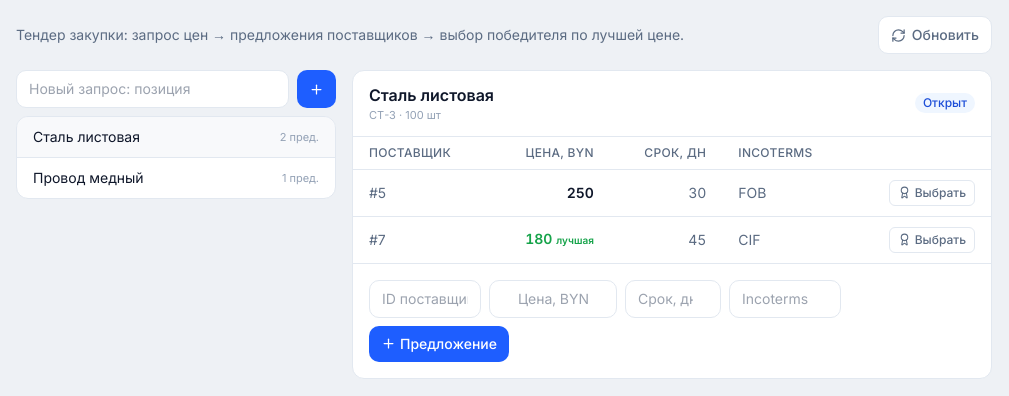
Test: ProcurementRfqView › клик по другому запросу в списке открывает его карточку
Check: the text "Победитель выбран" is not shown
What coordinates should you click on to do the following:
click the button "Провод медный 1 пред."
I would click on:
 (88, 178)
Its box is [17, 158, 335, 198].
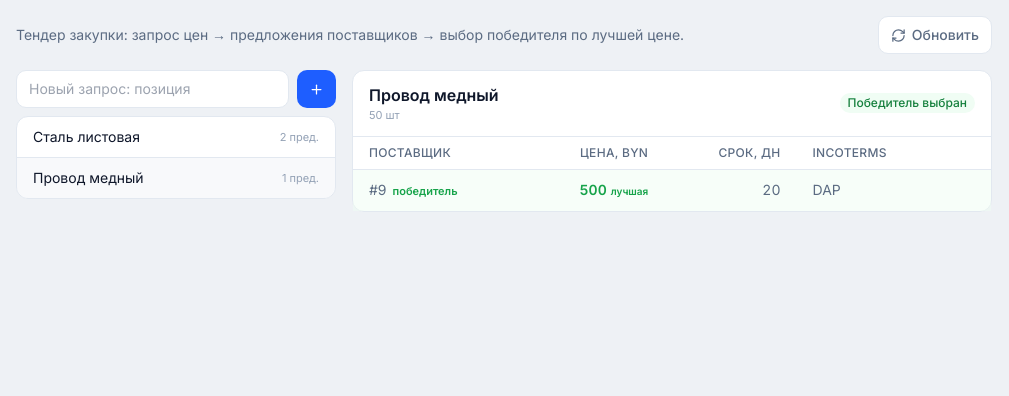
Check: the text "Победитель выбран" is shown, box [840, 93, 975, 113]
